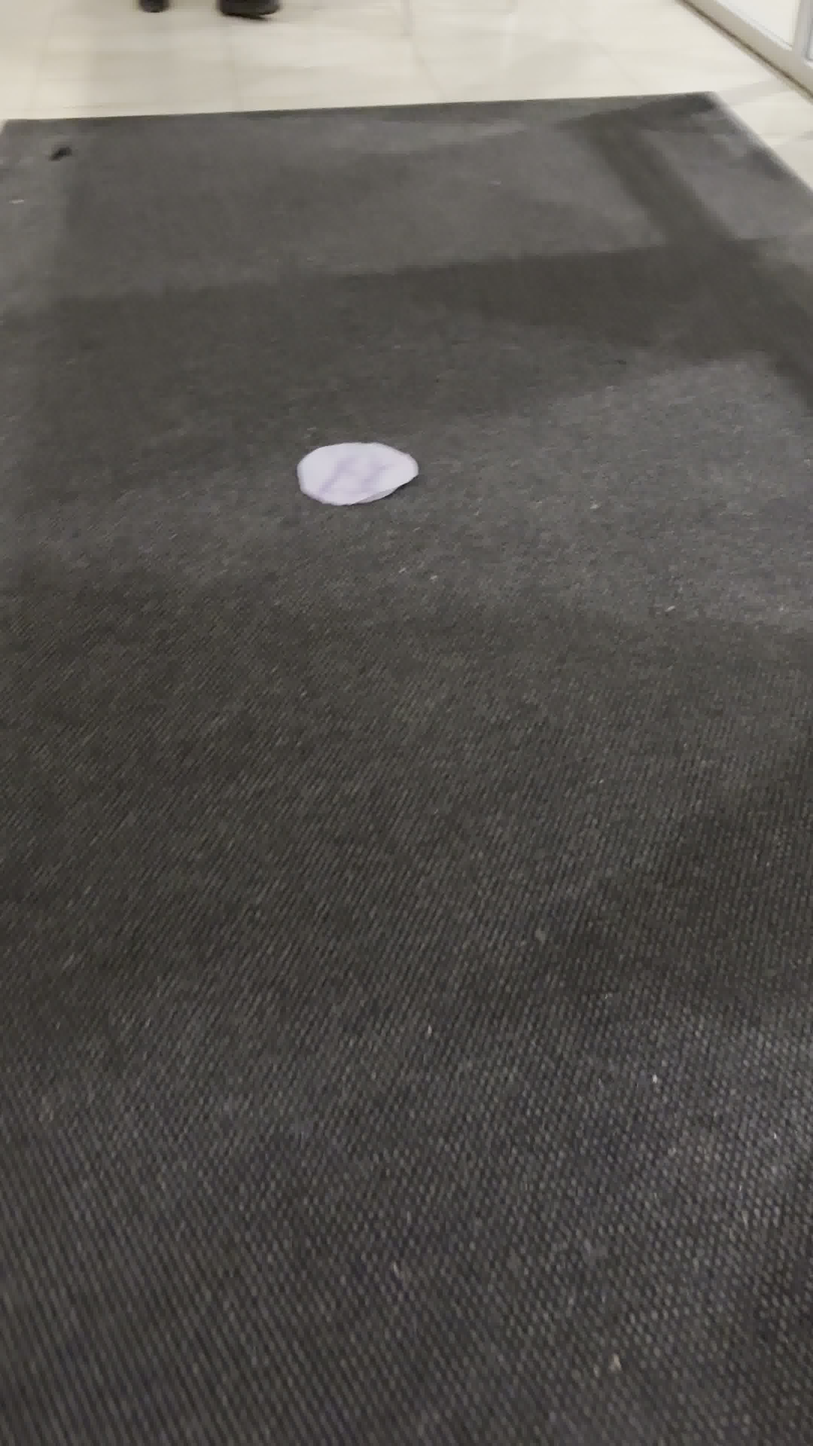Target: (293, 441, 421, 508)
